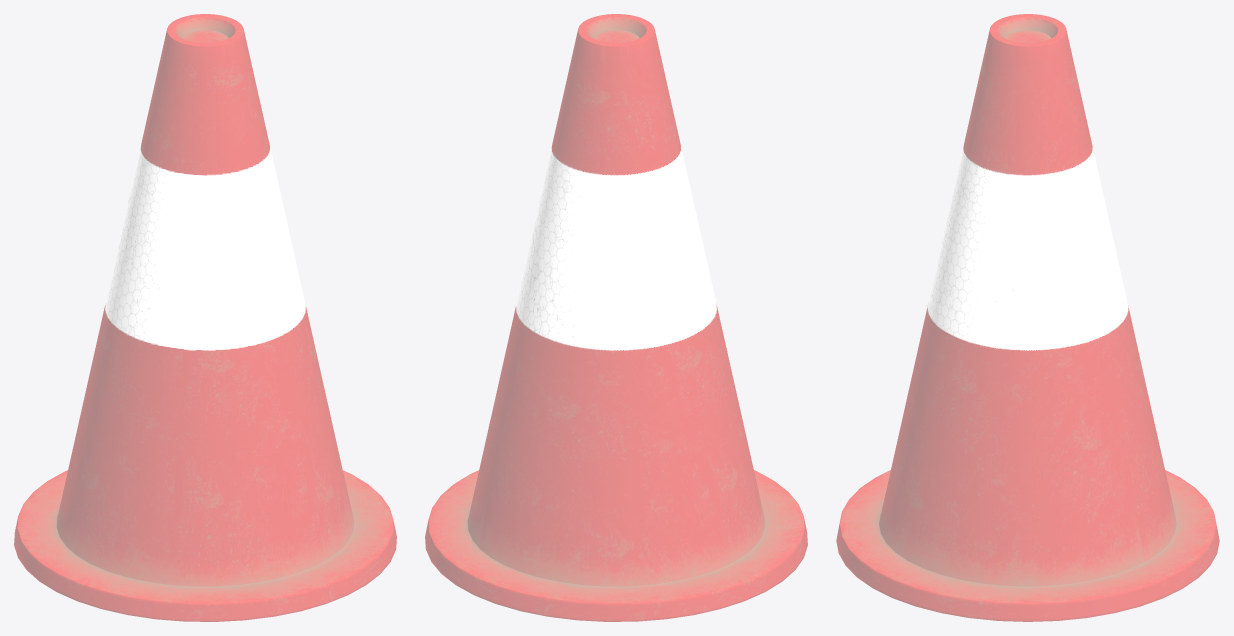
Rendered from Traffic_Cone.glb.
3 renders of one model, left to right at view 1: azimuth 30°, elevation 25°; view 2: azimuth 150°, elevation 25°; view 3: azimuth 270°, elevation 25°, orthographic.
Visible parts, largest first — view 1: Traffic_cone; view 2: Traffic_cone; view 3: Traffic_cone.
Part boxes in pixels (left/top/right/bottom): Traffic_cone: left=14, top=14, right=396, bottom=621; Traffic_cone: left=425, top=14, right=807, bottom=621; Traffic_cone: left=836, top=14, right=1219, bottom=621.
Bounding box in the file's own units: 0.5599 × 0.8232 × 0.5599.
1 material, 1 textured.
